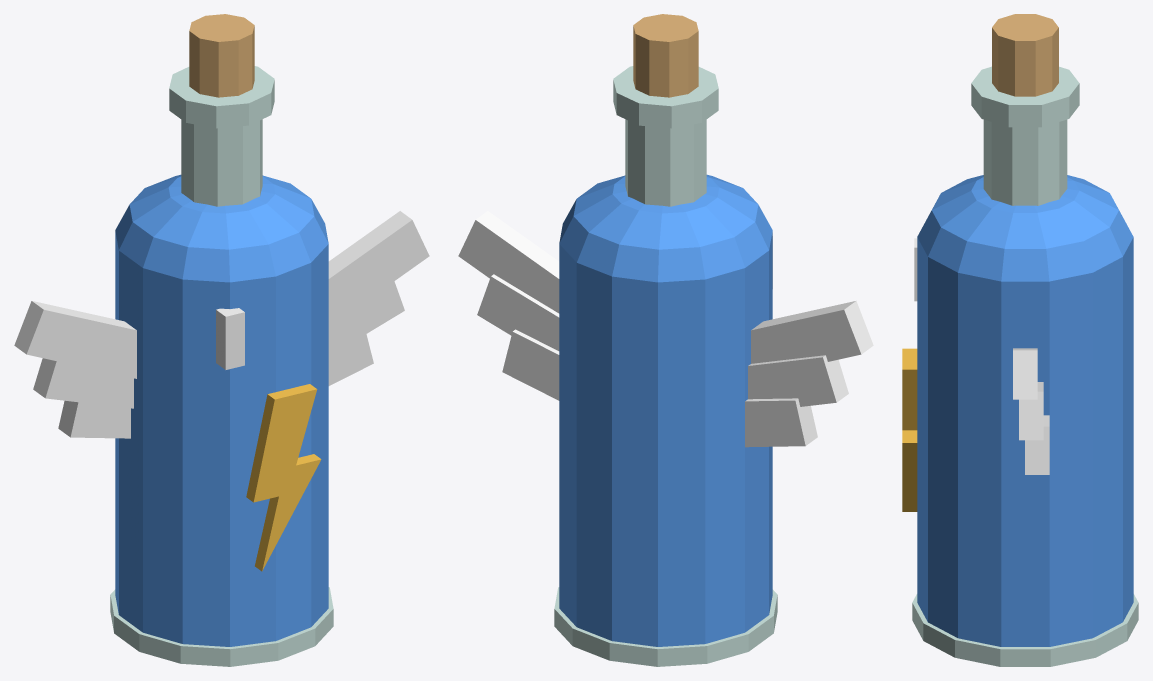
Rendered from CatCafe_Prop_Potion_Swift.glb.
3 views of the same model, side by side, from view 1: azimuth 30°, elevation 25°; view 2: azimuth 150°, elevation 25°; view 3: azimuth 270°, elevation 25° (orthographic).
Visible parts, largest first — view 1: CatCafe_Prop_Potion_Swift; view 2: CatCafe_Prop_Potion_Swift; view 3: CatCafe_Prop_Potion_Swift.
Boxes of the visible parts, <box> form: CatCafe_Prop_Potion_Swift: <box>14,14,429,666</box>; CatCafe_Prop_Potion_Swift: <box>458,14,873,666</box>; CatCafe_Prop_Potion_Swift: <box>902,14,1138,666</box>.
Bounding box in the file's own units: 0.9488 × 1.33 × 0.48.
Materials: 1 (1 with a texture image).
